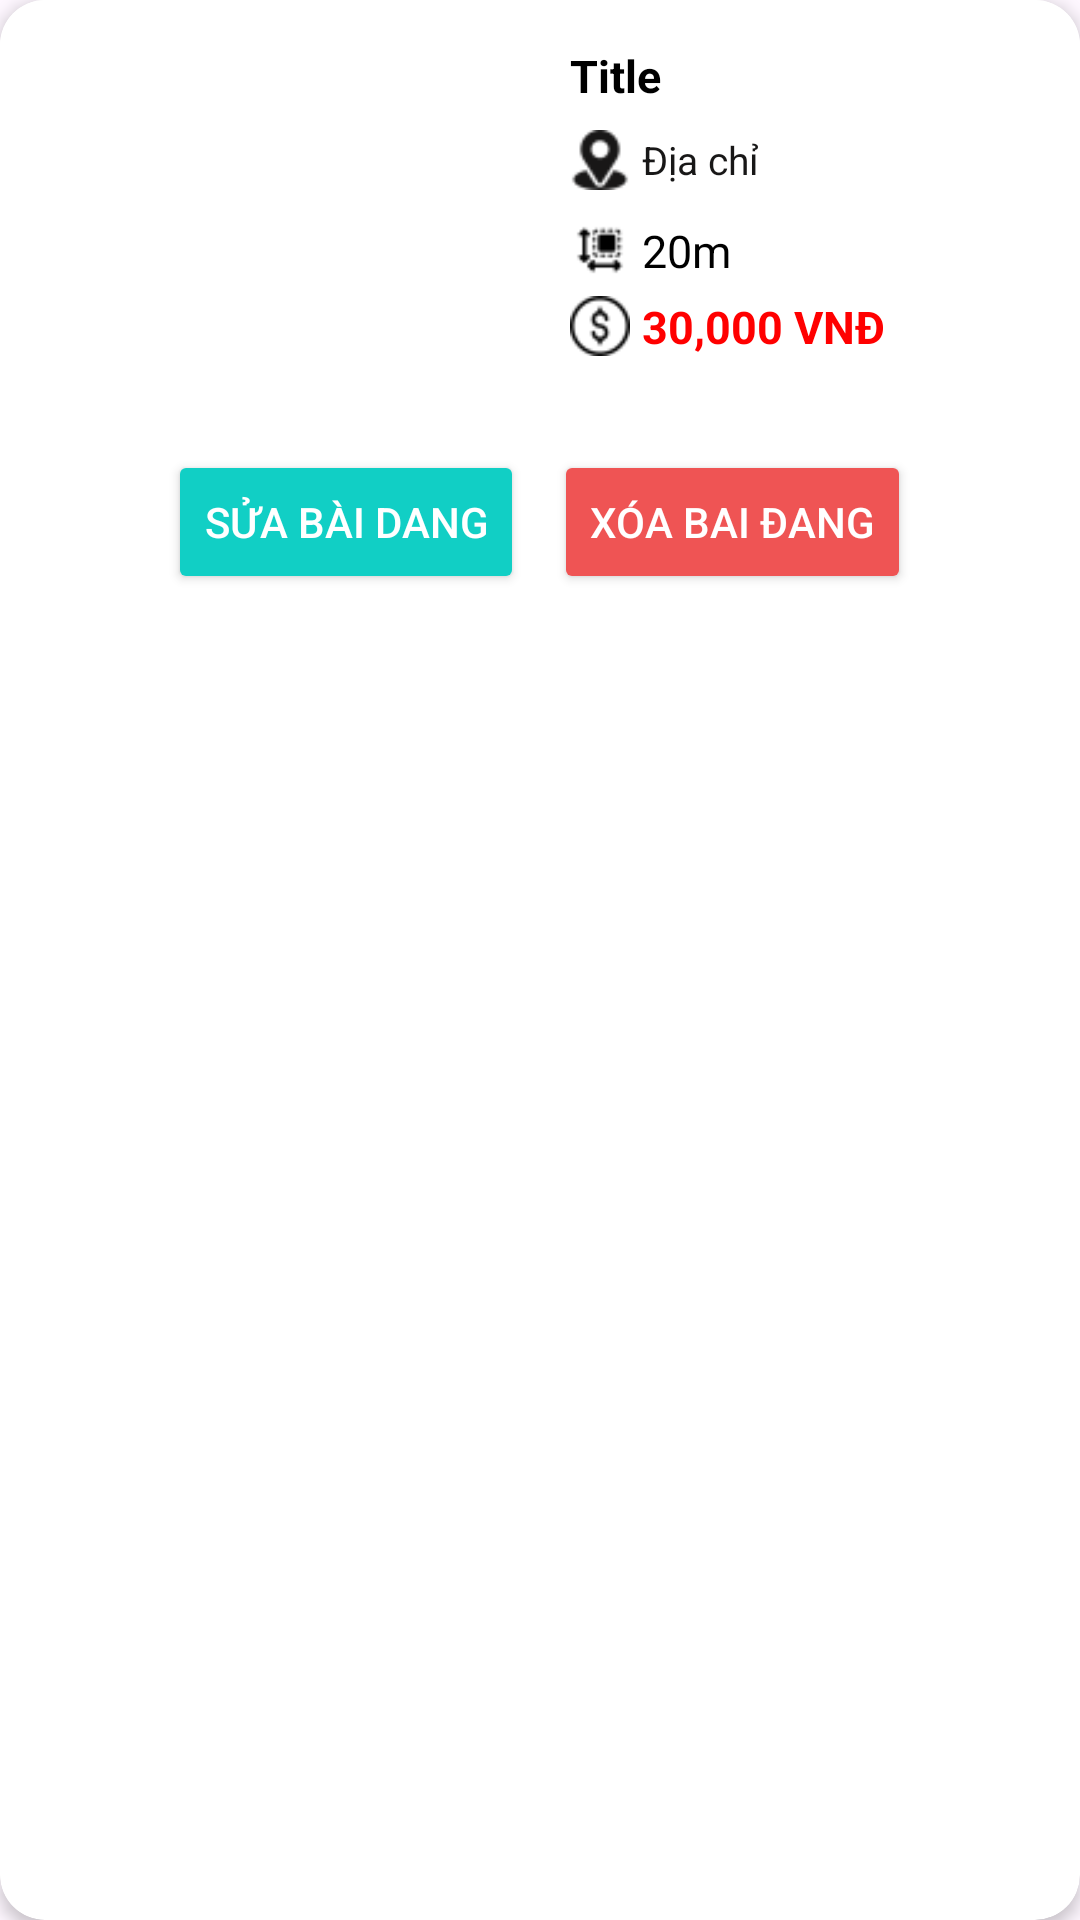

Locate icon controls on the screen. Image size 1080×1920, boxes as {"left": x1, "top": y1, "right": x2, "bottom": y2}.
dollar: {"left": 570, "top": 296, "right": 630, "bottom": 356}
location: {"left": 572, "top": 130, "right": 628, "bottom": 190}
size: {"left": 577, "top": 227, "right": 623, "bottom": 273}
